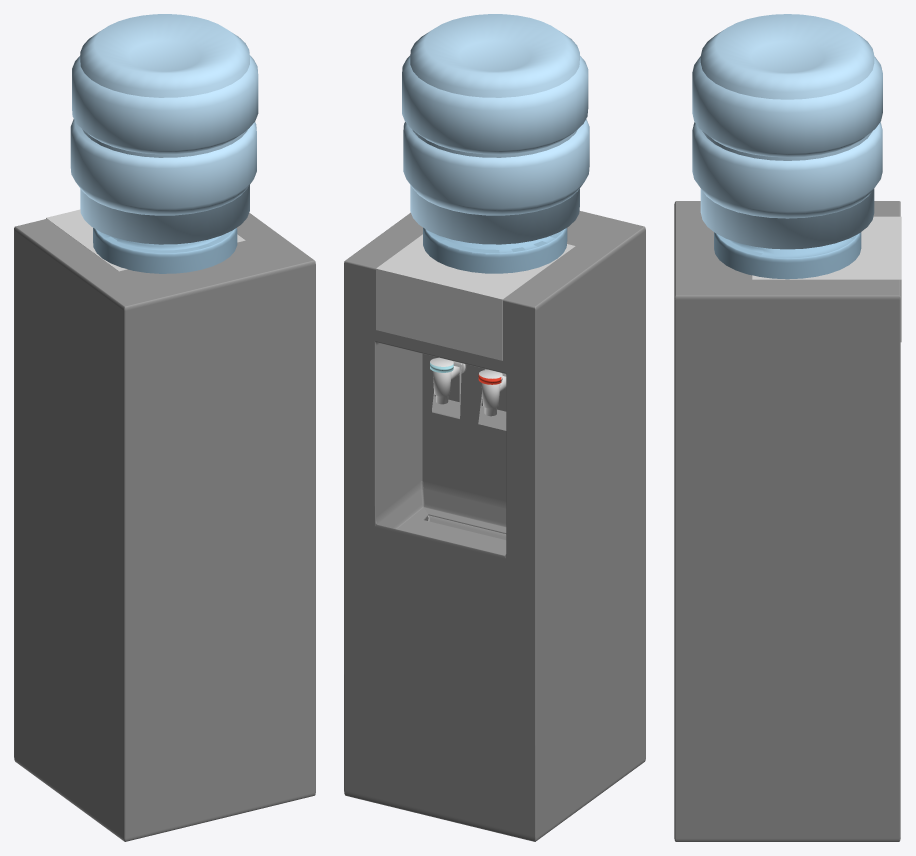
File: water filter no mess.fbx
3 renders of one model, left to right at view 1: azimuth 30°, elevation 25°; view 2: azimuth 150°, elevation 25°; view 3: azimuth 270°, elevation 25°, orthographic. The views are drawn at different scales.
Parts seen in each view (by area): view 1: Cube, Cylinder.008, Cylinder.007; view 2: Cube, Cylinder.008, Cylinder.007; view 3: Cube, Cylinder.008, Cylinder.007.
Part boxes in pixels (left/top/right/bottom): Cube: left=14, top=213, right=315, bottom=841; Cylinder.008: left=70, top=14, right=258, bottom=244; Cylinder.007: left=46, top=209, right=245, bottom=271; Cube: left=344, top=211, right=645, bottom=841; Cylinder.008: left=402, top=14, right=589, bottom=244; Cylinder.007: left=376, top=234, right=575, bottom=384; Cube: left=674, top=201, right=900, bottom=841; Cylinder.008: left=692, top=14, right=882, bottom=249; Cylinder.007: left=752, top=216, right=901, bottom=342.
Bounding box in the file's own units: 200 × 732 × 201.
